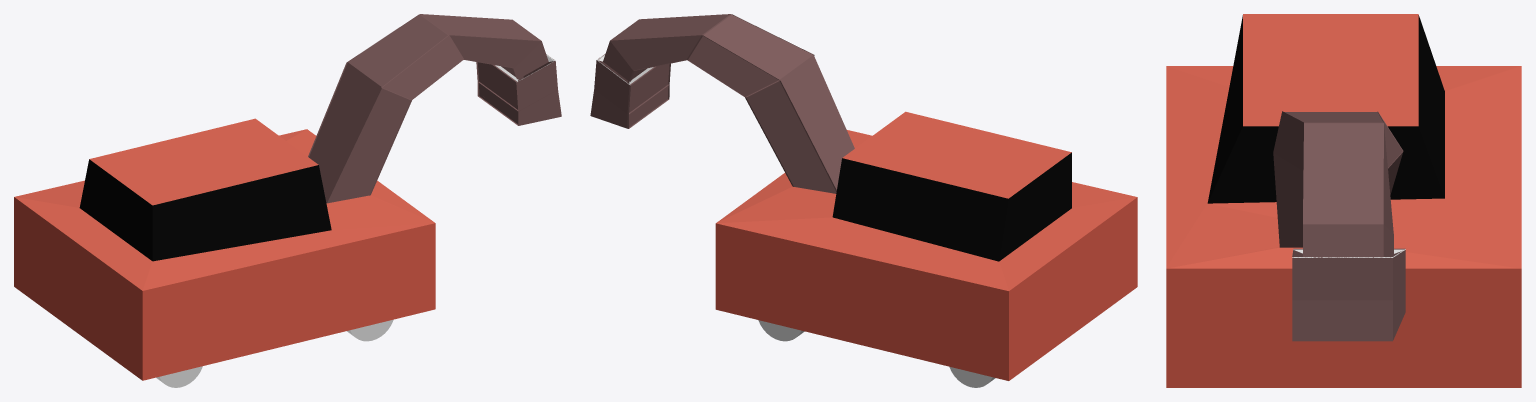
The model's file is VeryLowPolyCrane.fbx.
3 views of the same model, side by side, from view 1: azimuth 30°, elevation 25°; view 2: azimuth 150°, elevation 25°; view 3: azimuth 270°, elevation 25° (orthographic). The views are drawn at different scales.
Visible parts, largest first — view 1: Cylinder.001, Cylinder.002; view 2: Cylinder.001, Cylinder.002; view 3: Cylinder.001, Cylinder.002.
Part boxes in pixels (bbox=[...]): Cylinder.001: bbox=[14, 118, 435, 387]; Cylinder.002: bbox=[308, 14, 561, 203]; Cylinder.001: bbox=[715, 111, 1137, 387]; Cylinder.002: bbox=[590, 14, 854, 193]; Cylinder.001: bbox=[1166, 14, 1521, 387]; Cylinder.002: bbox=[1273, 111, 1405, 341].
Bounding box in the file's own units: 1082 × 518 × 537.
